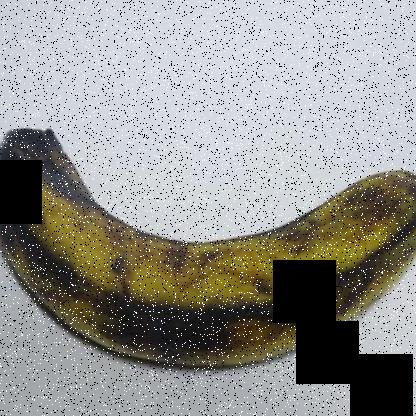overripe: (1, 104, 415, 382)
